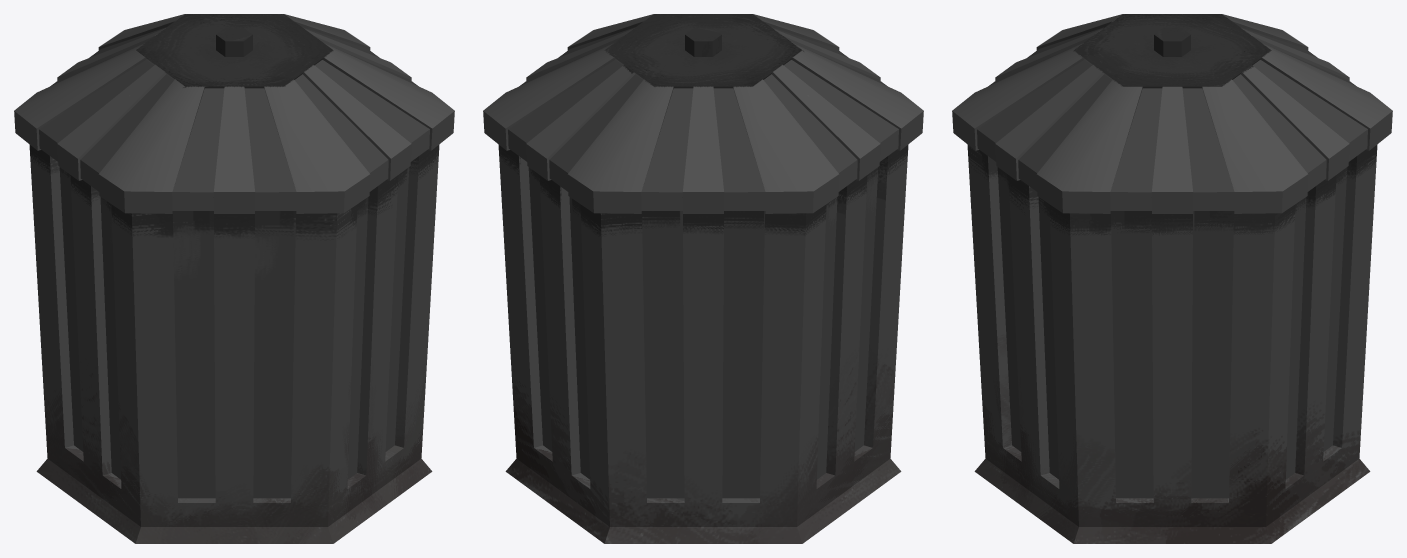
File: P_TRASH CAN 02.fbx
The picture shows the model from 3 angles, left to right: view 1: azimuth 30°, elevation 25°; view 2: azimuth 150°, elevation 25°; view 3: azimuth 270°, elevation 25°; orthographic projection.
Parts seen in each view (by area): view 1: Trash_Can_02; view 2: Trash_Can_02; view 3: Trash_Can_02.
Part boxes in pixels (box(x1,y1,x2,y2)): Trash_Can_02: box(14, 14, 454, 543); Trash_Can_02: box(483, 14, 923, 543); Trash_Can_02: box(952, 14, 1392, 543).
Bounding box in the file's own units: 55.47 × 69.42 × 63.46.
